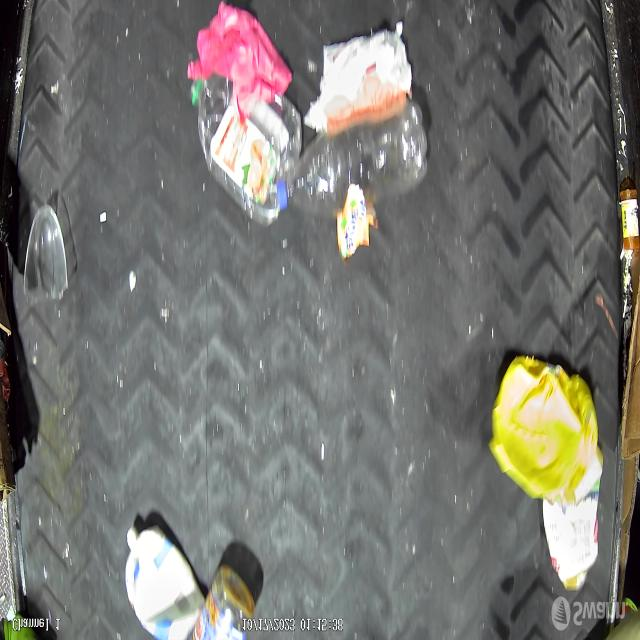non_white_jug: (489, 355, 598, 497)
plastic_bottle: (278, 101, 428, 214)
